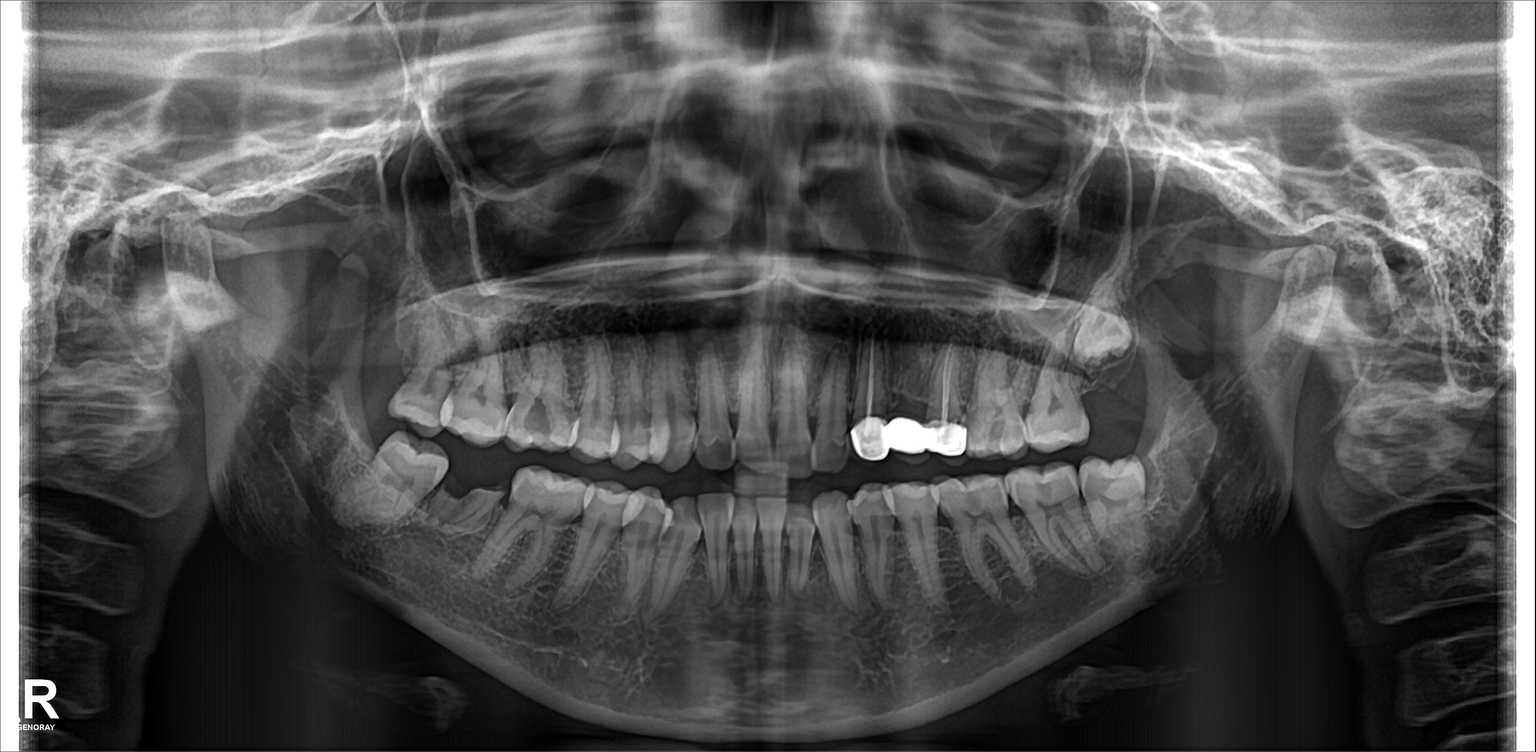Dental Caries: (518, 398, 554, 444), (700, 432, 733, 463)
Endodontically Treated Tooth: (849, 339, 885, 454), (894, 339, 931, 450), (929, 352, 964, 447)
Impacted Third Molar: (1076, 290, 1134, 364)
Missing Tooth: (1078, 344, 1135, 432), (363, 311, 401, 422)
Retained Root: (434, 463, 501, 536)
